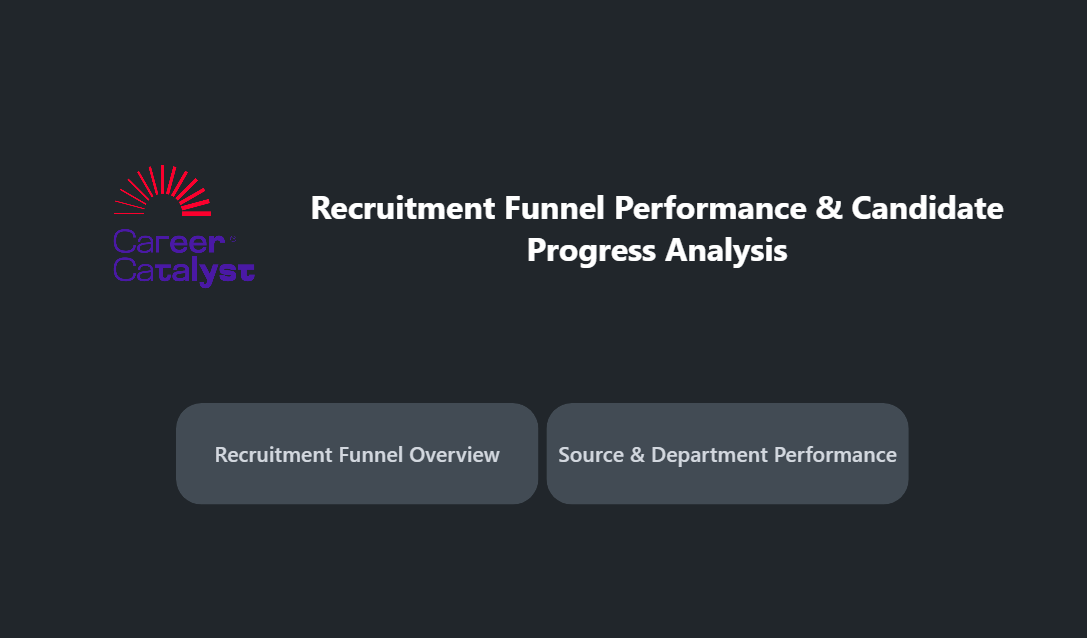

This screenshot's page, from the dashboard's own definition file:
{"tool":"powerbi","page":{"name":"Home","canvas":[1360,800],"ordinal":0},"visuals":[{"type":"pageNavigator","box":[221.2,505,917.5,127.5],"z":0},{"type":"image","box":[0,0,462.5,568.8],"z":1000},{"type":"shape","box":[353.8,203.8,937.5,161.2],"z":2000}]}

Visuals, with their boxes in screenshot pixels (x1, y1, x2, y2), scaled from the page's 1360x800 canvas onto the 1087x638 screenshot:
pageNavigator: (177, 403, 910, 504)
image: (0, 0, 370, 454)
shape: (283, 163, 1032, 291)
